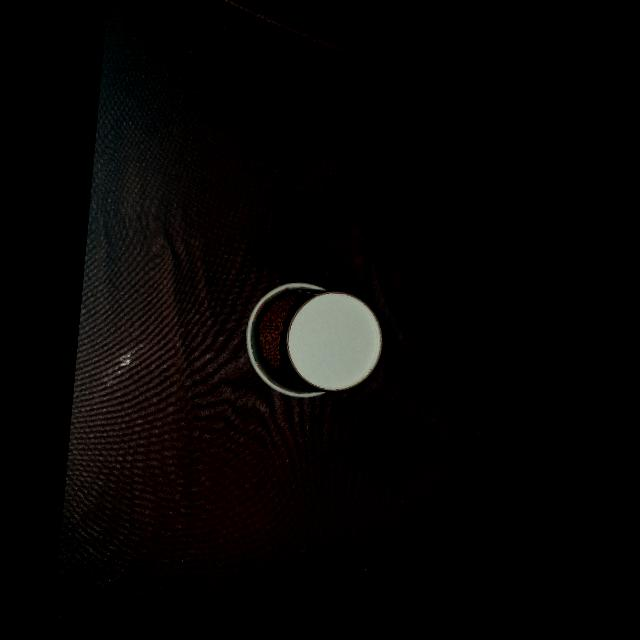trash: (228, 269, 396, 422)
